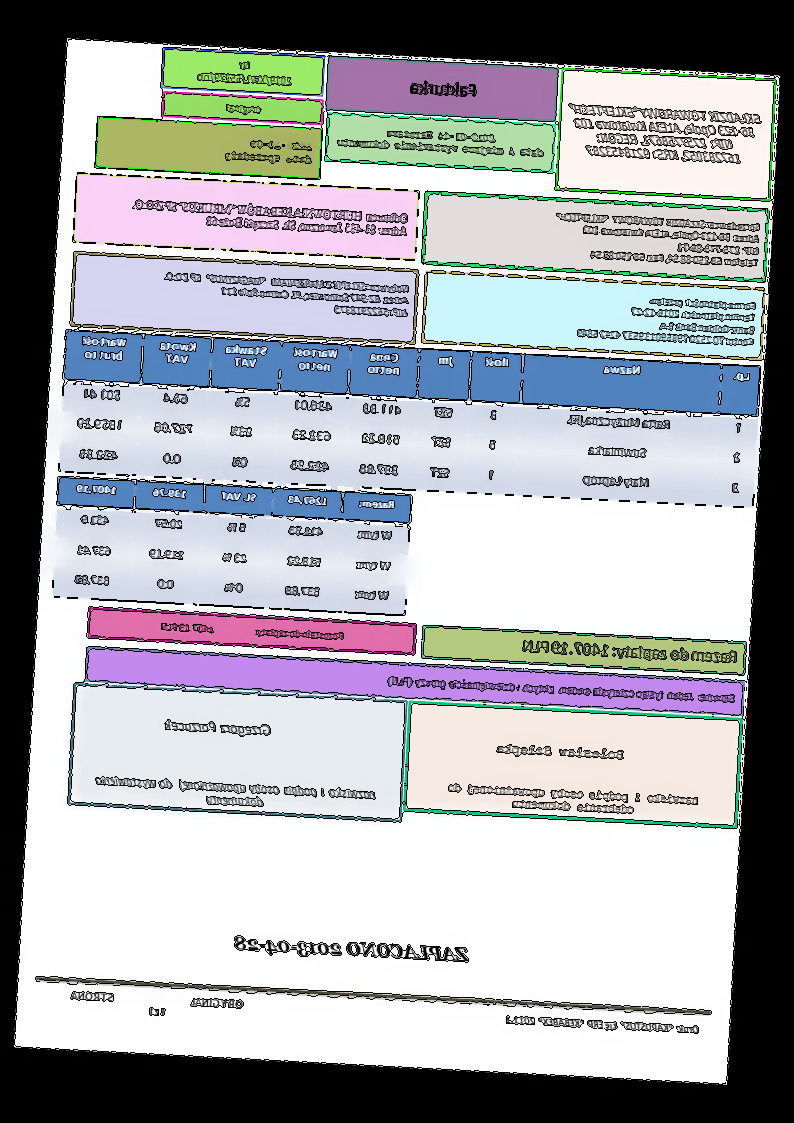Table: (58, 327, 762, 510), (50, 473, 413, 617)
TextBox: (161, 268, 412, 321), (563, 100, 764, 166), (552, 208, 763, 270), (92, 772, 378, 817), (130, 194, 412, 239), (386, 672, 738, 706), (575, 288, 760, 349), (445, 780, 702, 819), (231, 931, 473, 970), (335, 123, 546, 161), (521, 635, 741, 667), (66, 986, 247, 1024), (503, 1011, 702, 1038), (158, 618, 348, 644), (496, 738, 628, 765), (197, 54, 295, 90), (221, 136, 316, 168), (162, 715, 274, 738), (408, 77, 481, 100), (223, 101, 264, 117)
